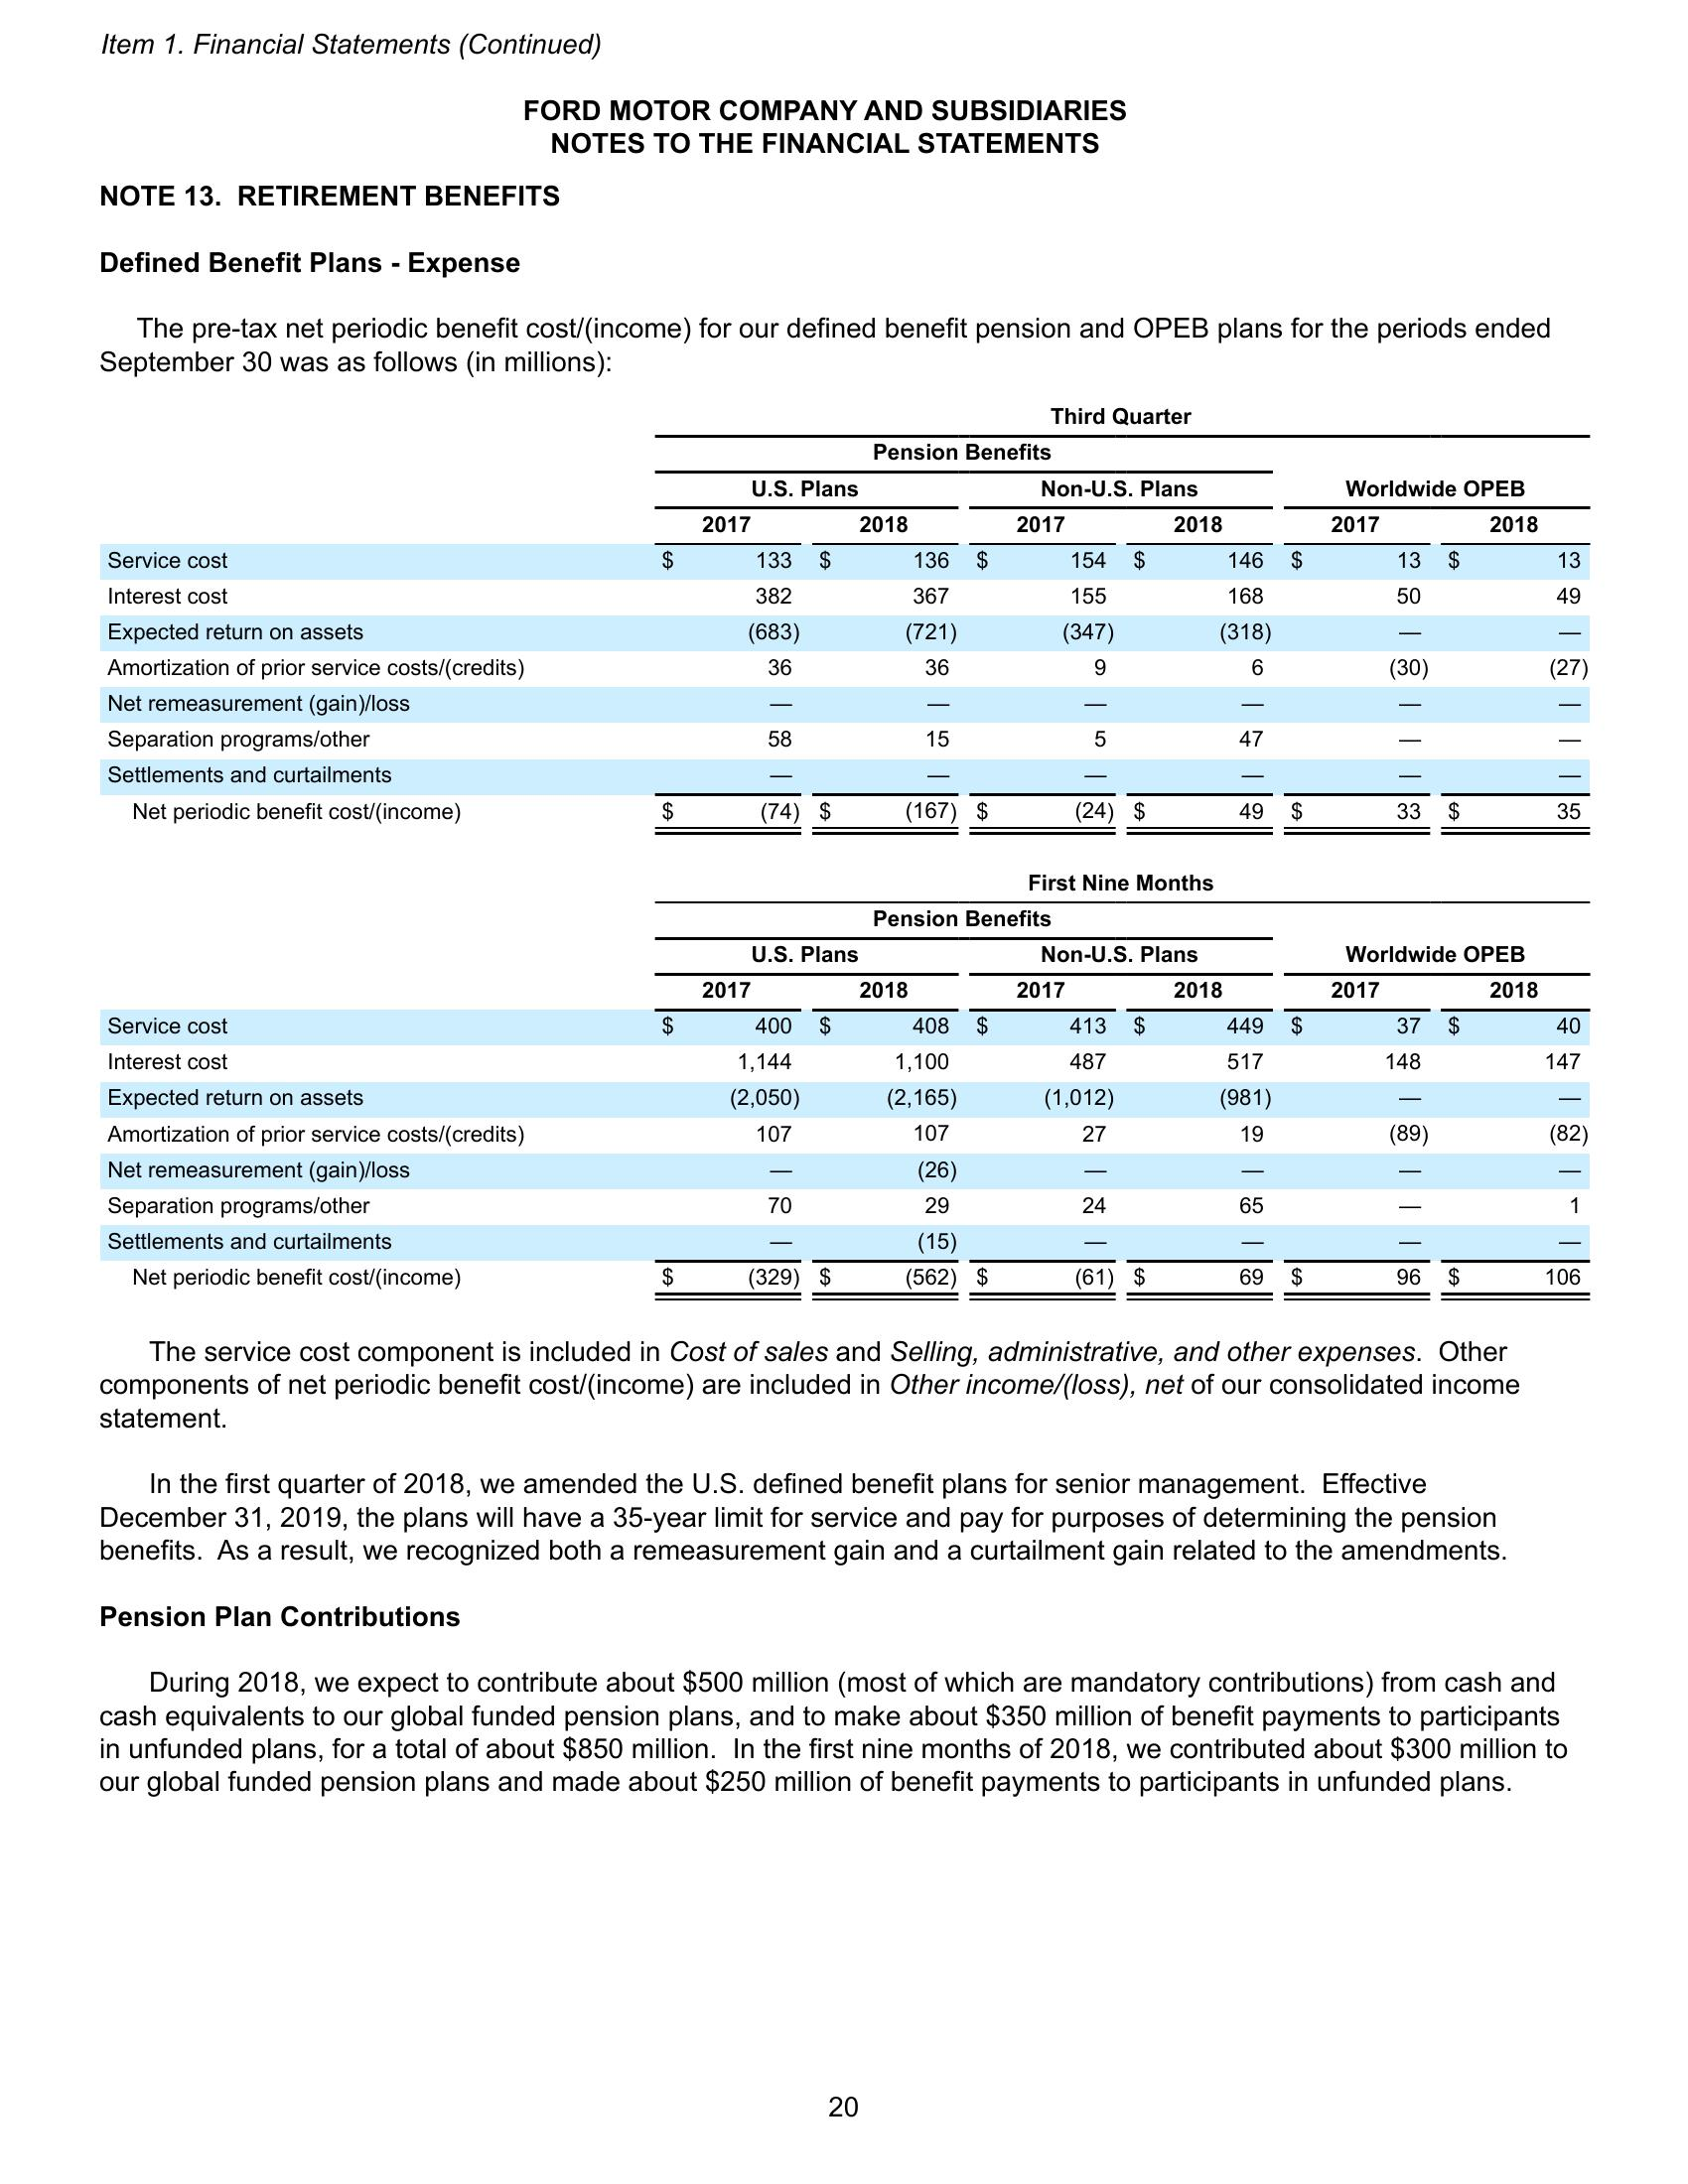table: (96, 401, 1594, 842), (94, 872, 1596, 1308)
